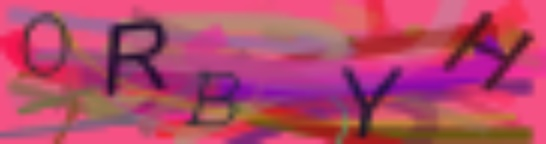B: (185, 69, 244, 129)
H: (440, 12, 535, 93)
O: (19, 10, 67, 81)
R: (101, 15, 173, 101)
Y: (336, 62, 405, 144)
